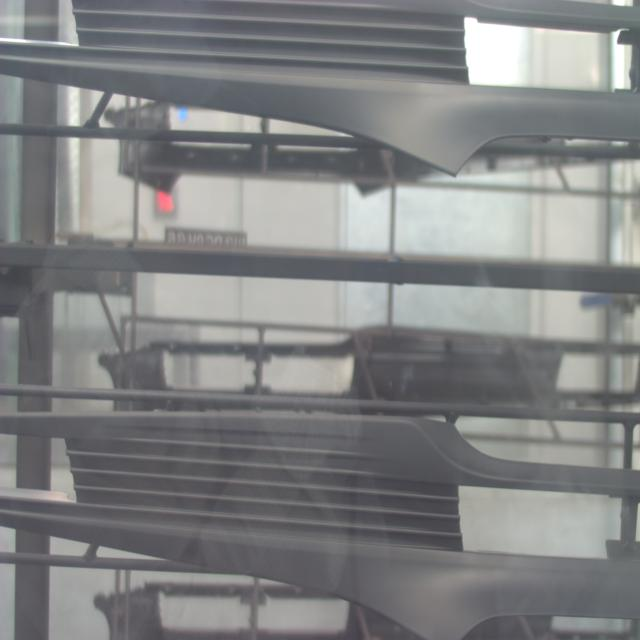Primered: (5, 416, 640, 639), (5, 3, 640, 176)
